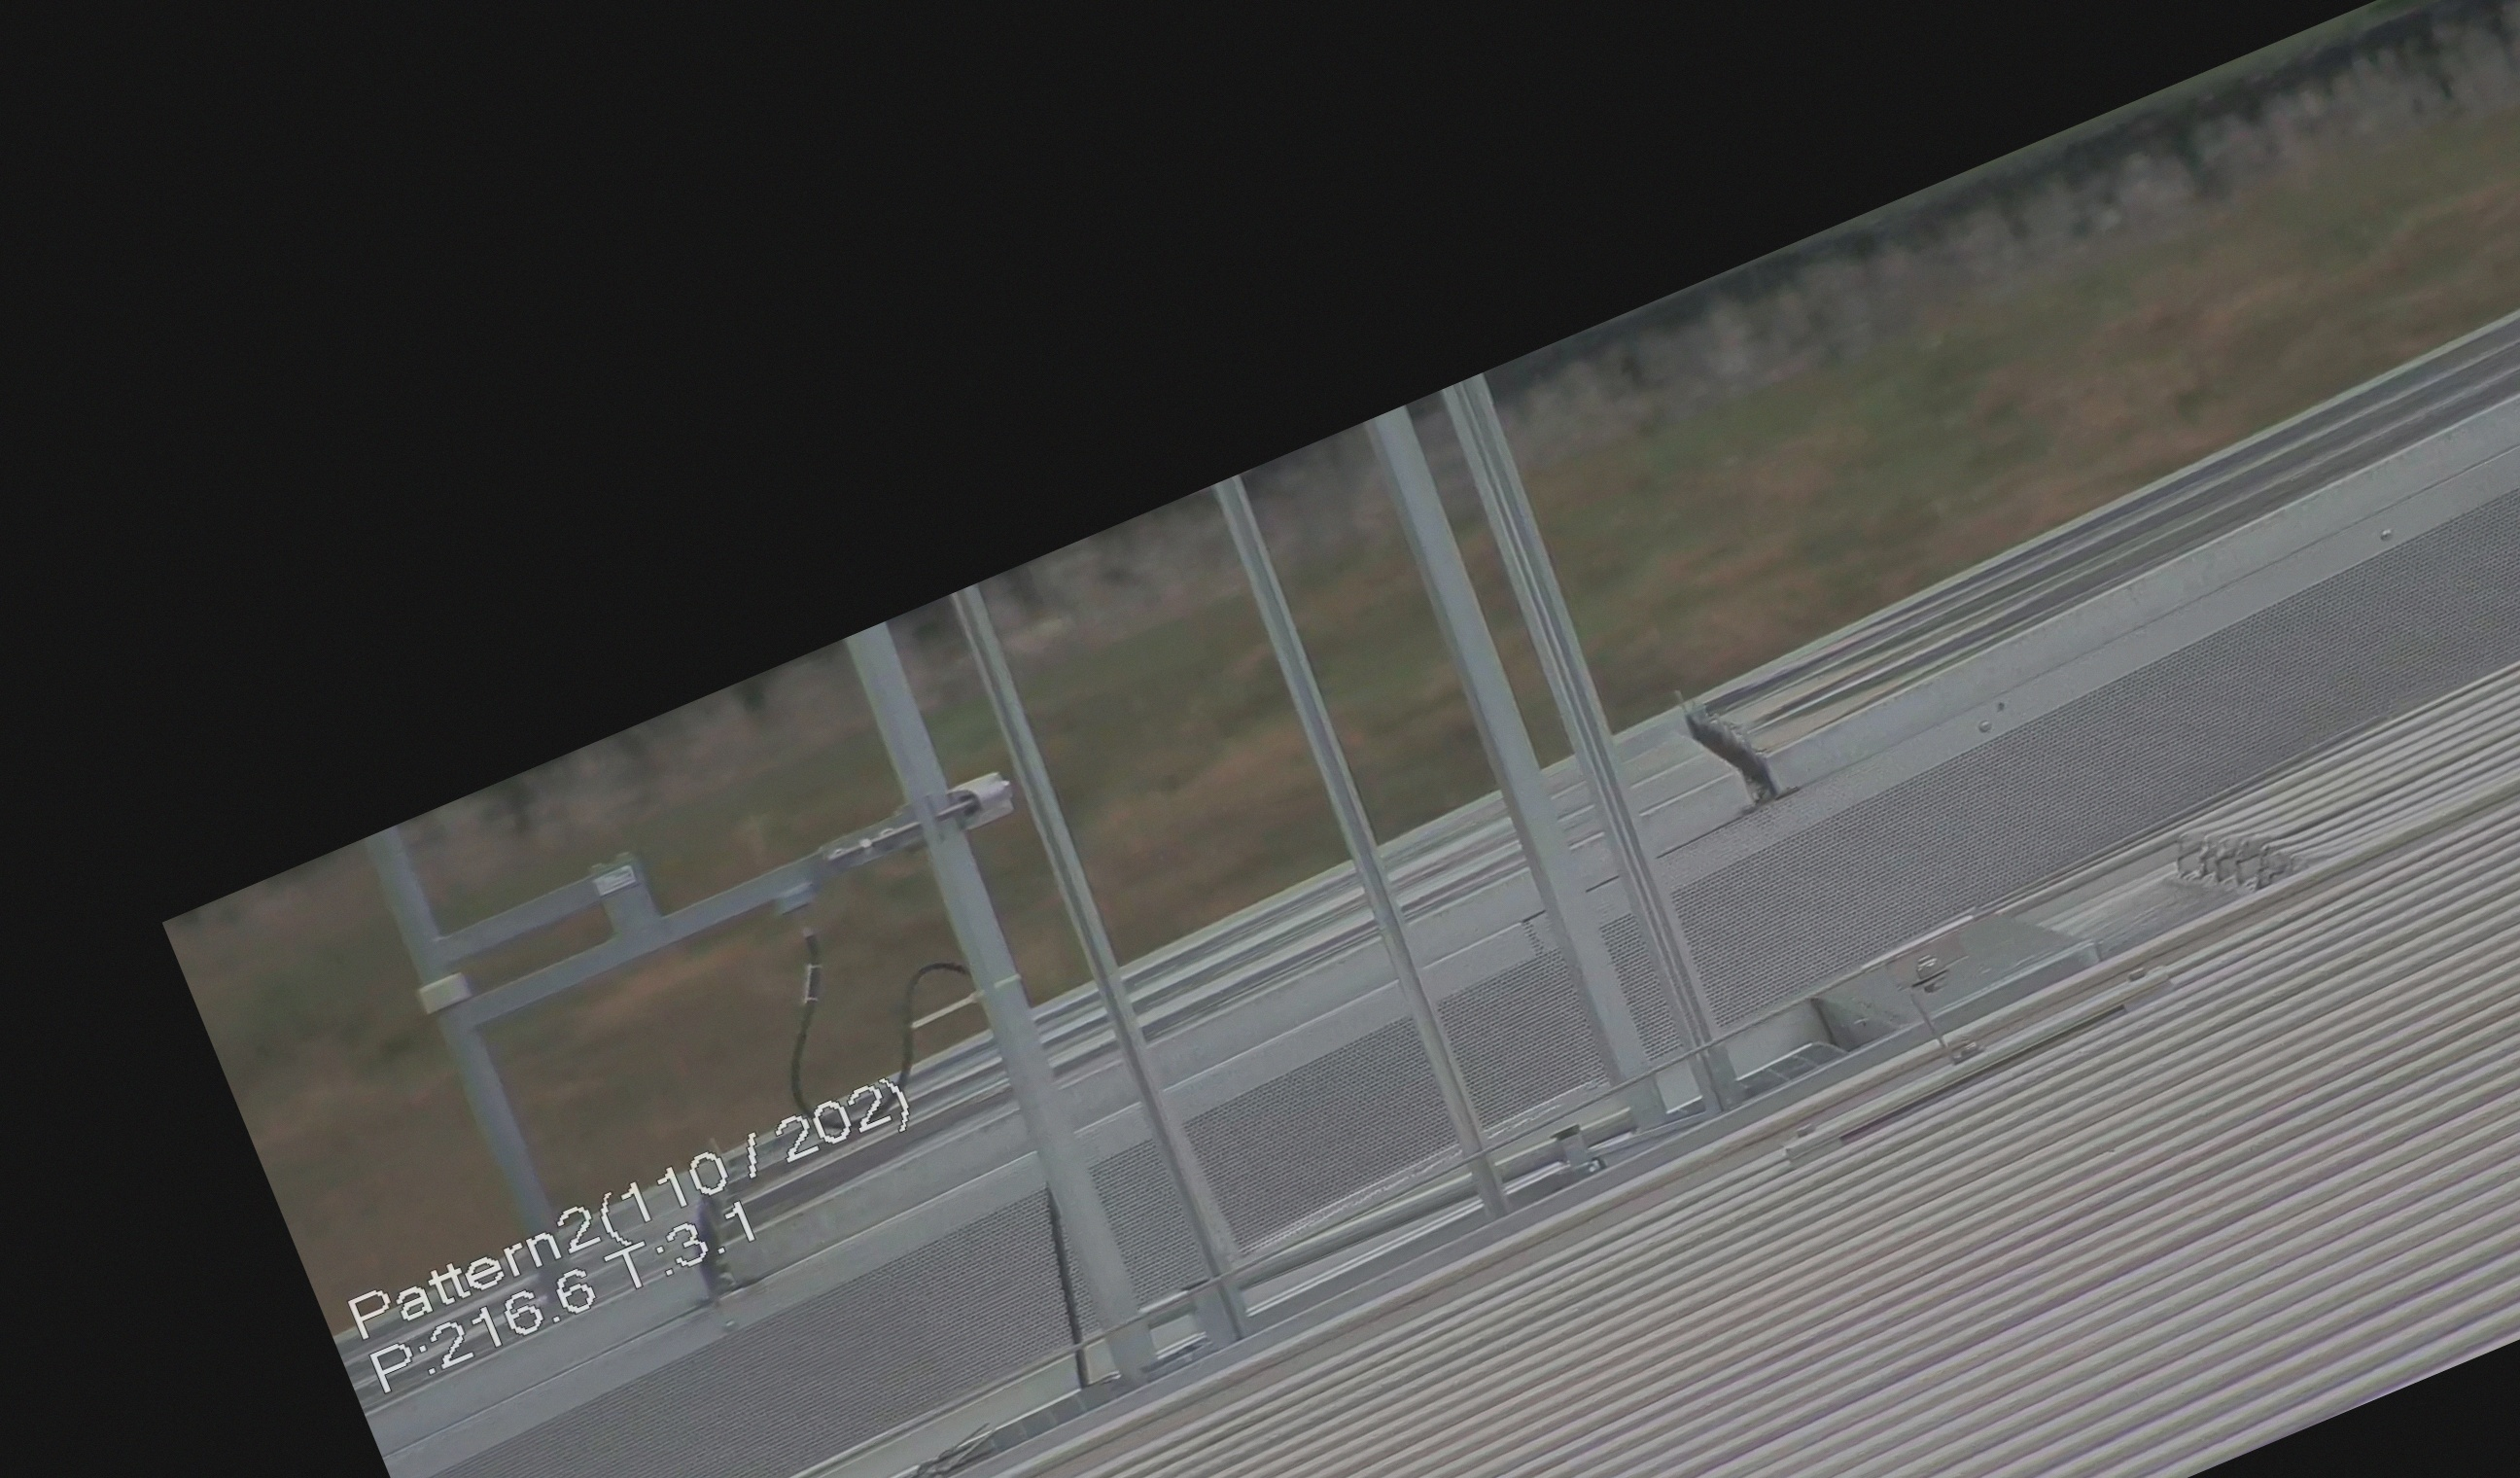Other: (1662, 663, 1806, 832)
